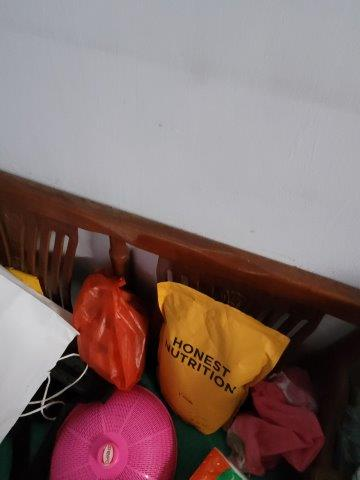plastik: (70, 275, 146, 390)
